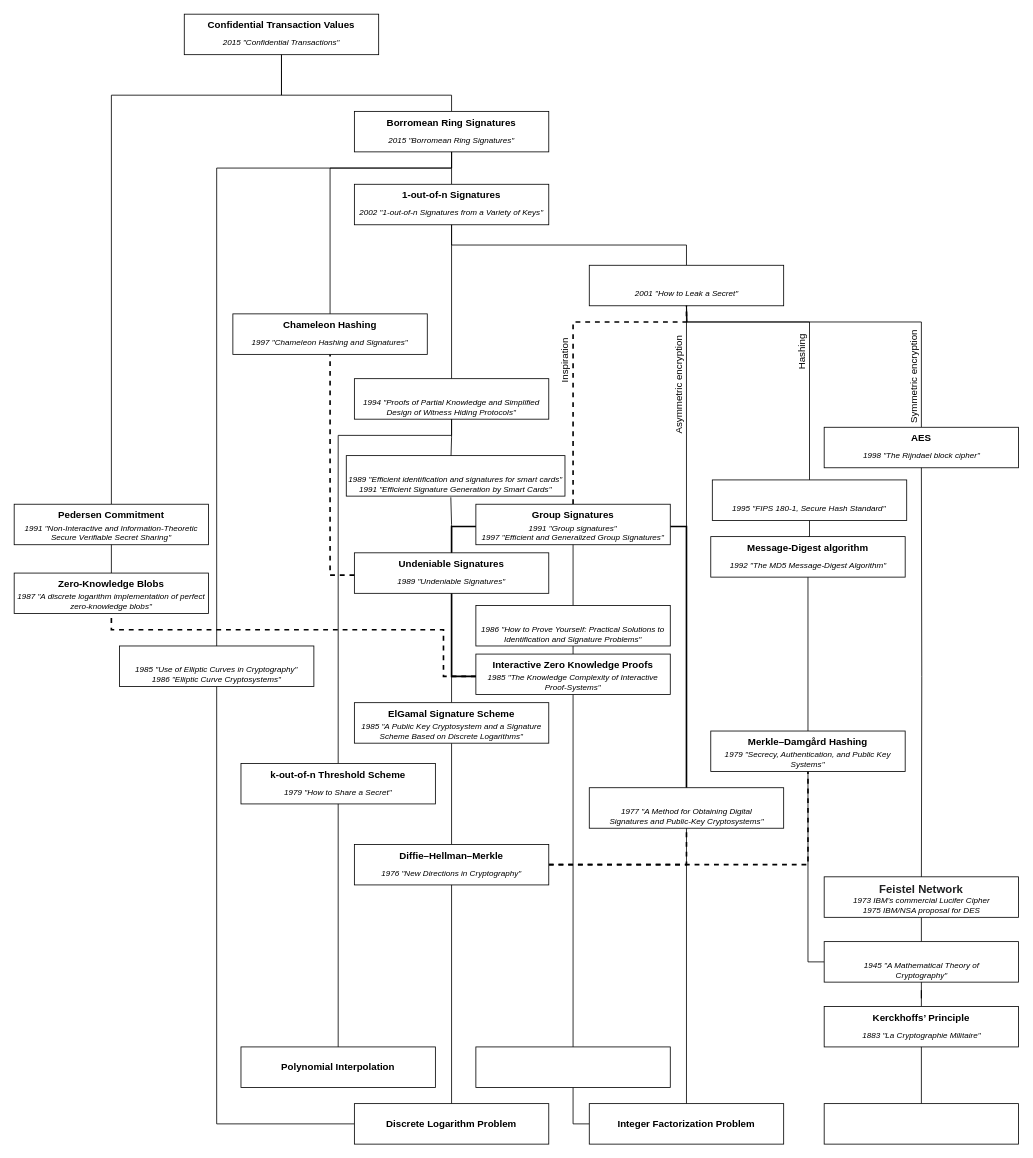
Image size: 1033x1158. Some labels were removed from this diagram. The shapes that lost their labels are listed below. From the top down, each one's box as (x1, y1, x2, y2) in pixels, then its label:
(588, 264, 784, 306): Ring Signatures
(354, 378, 549, 419): Witness Indistinguishable Signatures
(345, 455, 565, 496): Schnorr Signatures
(712, 479, 907, 520): Secure Hash Algorithm
(475, 605, 670, 646): Non-Interactive Transformation
(119, 645, 314, 686): Elliptic Curve Cryptography
(588, 787, 784, 828): RSA
(823, 941, 1019, 982): Diffusion and Confusion
(475, 1046, 670, 1087): Quadratic Residuosity Problem
(823, 1103, 1019, 1144): Symmetric Ciphers
